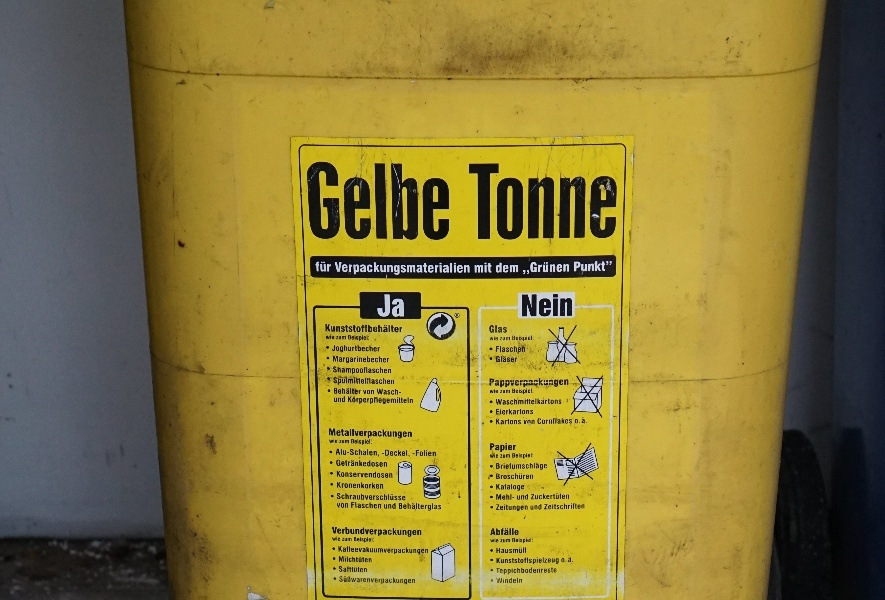text: (321, 162, 336, 241), (337, 162, 352, 241), (353, 162, 368, 241), (369, 162, 384, 241), (385, 162, 400, 241), (401, 162, 416, 241), (417, 162, 432, 241), (433, 162, 448, 241), (481, 164, 496, 240), (497, 164, 512, 240), (513, 164, 528, 240), (529, 164, 544, 240), (545, 164, 560, 240), (561, 164, 576, 240), (577, 164, 592, 240), (593, 164, 608, 240), (307, 162, 320, 241), (468, 164, 480, 240), (609, 164, 619, 240), (529, 294, 544, 317), (545, 294, 560, 317), (385, 295, 400, 317), (561, 294, 573, 317), (337, 262, 352, 276), (353, 262, 368, 276), (369, 262, 384, 276), (385, 262, 400, 276), (401, 262, 416, 276), (417, 262, 432, 276), (433, 262, 448, 276), (449, 262, 464, 276), (529, 261, 544, 275), (545, 261, 560, 275), (577, 261, 592, 273), (593, 261, 608, 273), (337, 527, 352, 538), (353, 527, 368, 538), (369, 527, 384, 538), (385, 527, 400, 538), (401, 527, 416, 538), (337, 429, 352, 440), (353, 429, 368, 440), (369, 429, 384, 440), (385, 429, 400, 440), (497, 263, 512, 274), (377, 295, 384, 317), (497, 378, 512, 388), (513, 378, 528, 388), (529, 378, 544, 388), (545, 378, 560, 388), (353, 547, 368, 556), (369, 547, 384, 556), (385, 547, 400, 556), (401, 547, 416, 556), (353, 396, 368, 405), (369, 396, 384, 405), (385, 396, 400, 405), (337, 366, 352, 375), (353, 366, 368, 375), (369, 366, 384, 375), (337, 356, 352, 365), (353, 356, 368, 365), (369, 356, 384, 365), (337, 324, 352, 333), (353, 324, 368, 333), (369, 324, 384, 333), (385, 324, 400, 333), (481, 263, 493, 274), (561, 261, 570, 275), (401, 429, 412, 440), (353, 577, 368, 585), (369, 577, 384, 585), (385, 577, 400, 585), (401, 503, 416, 511), (417, 503, 432, 511), (337, 493, 352, 501), (353, 493, 368, 501), (369, 493, 384, 501), (385, 493, 400, 501), (337, 449, 352, 457), (353, 449, 368, 457), (385, 450, 400, 458), (337, 377, 352, 385), (353, 377, 368, 385), (369, 377, 384, 385), (337, 345, 352, 353), (353, 345, 368, 353), (497, 568, 512, 576), (513, 568, 528, 576), (529, 568, 544, 576), (497, 528, 512, 536), (497, 463, 512, 471), (513, 463, 528, 471), (529, 463, 544, 471), (497, 444, 512, 452), (339, 547, 352, 556), (523, 294, 528, 317), (401, 577, 415, 585), (417, 547, 429, 556), (401, 396, 413, 405), (353, 502, 368, 509), (337, 482, 352, 489), (353, 482, 368, 489), (369, 482, 384, 489), (337, 471, 352, 478), (353, 471, 368, 478), (369, 471, 384, 478), (337, 460, 352, 467), (353, 460, 368, 467), (369, 460, 384, 467), (417, 450, 432, 457), (353, 335, 368, 342), (497, 558, 512, 565), (513, 558, 528, 565), (529, 558, 544, 565), (497, 505, 512, 512), (513, 505, 528, 512), (497, 494, 512, 501), (497, 484, 512, 491), (497, 473, 512, 480), (513, 473, 528, 480), (545, 418, 560, 425), (497, 398, 512, 405), (513, 398, 528, 405), (529, 398, 544, 405), (545, 398, 560, 405), (497, 356, 512, 363), (497, 346, 512, 353), (513, 336, 528, 343), (321, 262, 331, 272), (545, 558, 559, 565), (340, 577, 352, 585), (385, 389, 401, 395), (369, 345, 381, 353), (545, 568, 557, 576), (513, 346, 526, 353), (353, 557, 368, 563), (353, 439, 368, 445), (337, 388, 352, 394), (326, 324, 336, 333), (497, 578, 512, 584), (497, 548, 512, 554), (513, 538, 528, 544), (545, 504, 560, 510), (561, 504, 576, 510), (545, 494, 560, 500), (513, 453, 528, 459), (497, 419, 512, 425), (497, 409, 512, 415), (513, 409, 528, 415), (513, 389, 528, 395), (369, 449, 380, 457), (353, 567, 367, 573), (354, 537, 368, 543), (369, 502, 381, 509), (513, 548, 527, 554), (513, 484, 525, 491), (561, 418, 573, 425), (385, 377, 395, 385), (561, 378, 569, 388), (497, 325, 507, 333), (449, 162, 450, 241), (339, 567, 352, 573), (339, 557, 352, 563), (531, 504, 544, 510), (329, 429, 336, 440), (337, 503, 352, 508), (433, 503, 442, 511), (401, 450, 410, 458), (532, 494, 544, 500), (465, 262, 470, 276), (582, 417, 592, 424), (385, 503, 396, 509), (401, 295, 404, 317), (513, 263, 519, 274), (385, 366, 392, 375), (513, 578, 523, 584), (518, 494, 528, 500), (490, 378, 496, 388), (385, 471, 393, 478), (562, 559, 576, 563), (417, 527, 422, 538), (475, 263, 480, 274), (337, 397, 346, 403), (353, 388, 362, 394), (561, 494, 570, 500), (513, 419, 522, 425), (326, 335, 336, 340), (340, 440, 352, 444), (609, 261, 613, 273), (513, 528, 519, 536), (577, 504, 585, 510), (490, 444, 496, 452), (500, 390, 512, 394), (500, 337, 512, 341), (490, 325, 496, 333), (385, 356, 390, 365), (332, 527, 336, 538), (501, 539, 512, 543), (501, 454, 512, 458), (377, 389, 384, 395), (538, 418, 544, 425), (342, 538, 352, 542), (401, 493, 406, 501), (316, 262, 320, 272), (348, 396, 352, 405), (337, 336, 346, 340), (329, 439, 336, 444), (569, 558, 576, 563), (489, 389, 496, 394), (513, 356, 518, 363), (529, 336, 534, 343), (489, 336, 496, 341), (492, 528, 496, 536), (513, 444, 517, 452), (369, 537, 374, 543), (369, 390, 375, 395), (490, 538, 496, 543), (529, 453, 534, 459), (529, 420, 535, 425), (529, 409, 534, 415), (529, 389, 534, 395), (526, 261, 528, 275), (529, 473, 533, 480), (333, 366, 336, 375), (333, 356, 336, 365), (363, 390, 368, 395), (529, 538, 533, 544), (490, 454, 496, 458), (385, 460, 388, 467), (413, 450, 416, 457), (433, 450, 436, 457), (349, 335, 352, 342), (457, 314, 464, 317), (524, 420, 528, 425), (369, 557, 372, 563), (369, 439, 372, 445), (401, 324, 403, 333), (332, 537, 336, 541), (337, 537, 341, 541), (382, 450, 384, 458), (334, 377, 336, 385), (334, 345, 336, 353), (545, 463, 547, 471), (577, 419, 580, 424), (335, 262, 336, 276), (513, 494, 515, 501), (334, 397, 336, 403), (334, 388, 336, 394), (575, 261, 576, 273), (497, 538, 499, 543), (497, 389, 499, 394), (497, 336, 499, 341), (399, 503, 400, 511), (497, 454, 499, 458), (369, 335, 370, 342), (561, 398, 562, 405), (337, 439, 338, 444), (575, 419, 576, 424)
